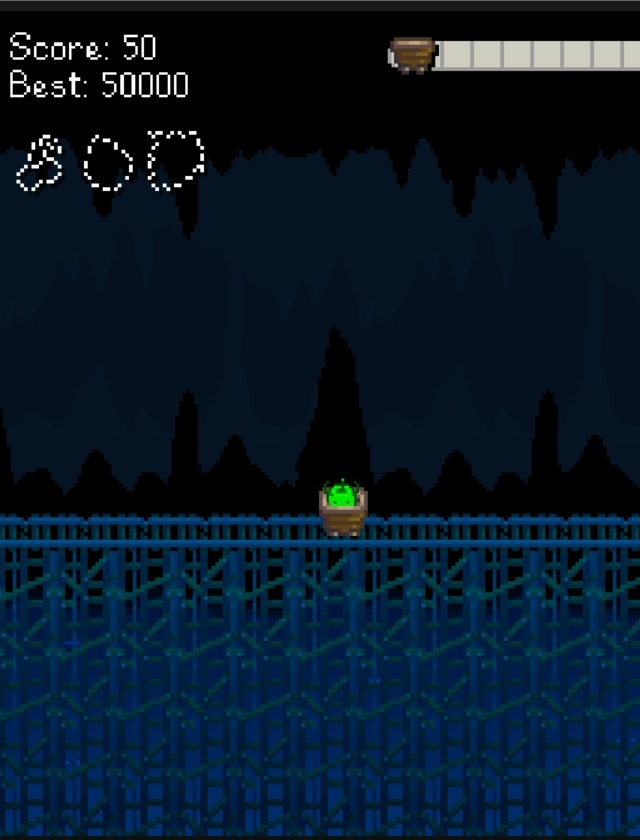minecart: (319, 490, 366, 535)
tracks: (0, 515, 639, 584)
